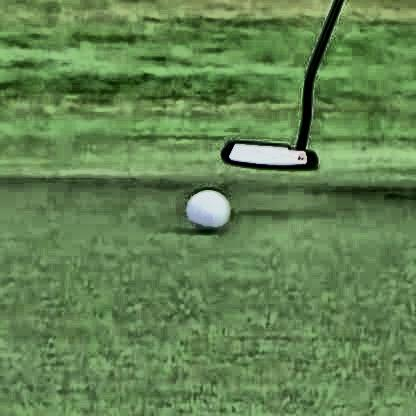golfball: (185, 187, 229, 229)
